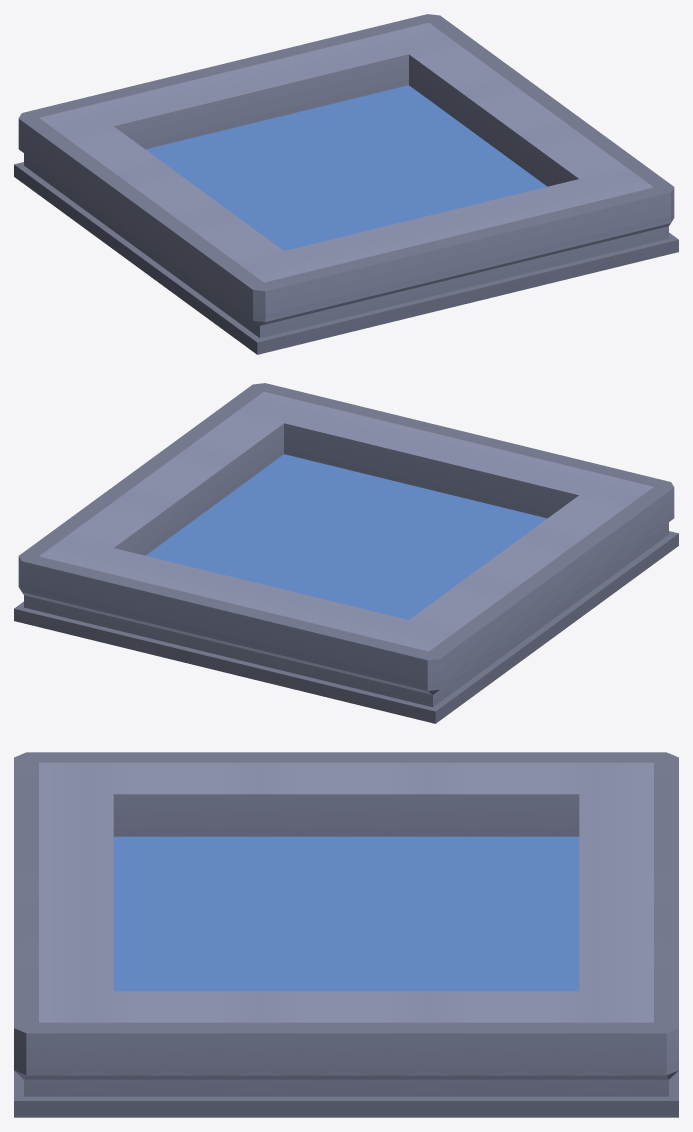
File: fountainSquare.fbx
3 renders of one model, top to bottom at view 1: azimuth 30°, elevation 25°; view 2: azimuth 150°, elevation 25°; view 3: azimuth 270°, elevation 25°, orthographic. The views are drawn at different scales.
Visible parts, largest first — view 1: fountainSquare; view 2: fountainSquare; view 3: fountainSquare.
Boxes of the visible parts, bbox=[...] form: fountainSquare: bbox=[14, 14, 678, 354]; fountainSquare: bbox=[14, 383, 678, 723]; fountainSquare: bbox=[14, 752, 678, 1117].
Bounding box in the file's own units: 2 × 2 × 0.28.
